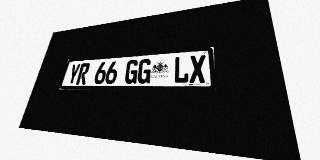6: (104, 61, 119, 84), (93, 62, 108, 84)
G: (136, 58, 152, 84), (124, 59, 139, 84)
L: (173, 56, 189, 83)
R: (76, 63, 90, 85)
X: (189, 55, 206, 83)
Y: (66, 64, 81, 85)
